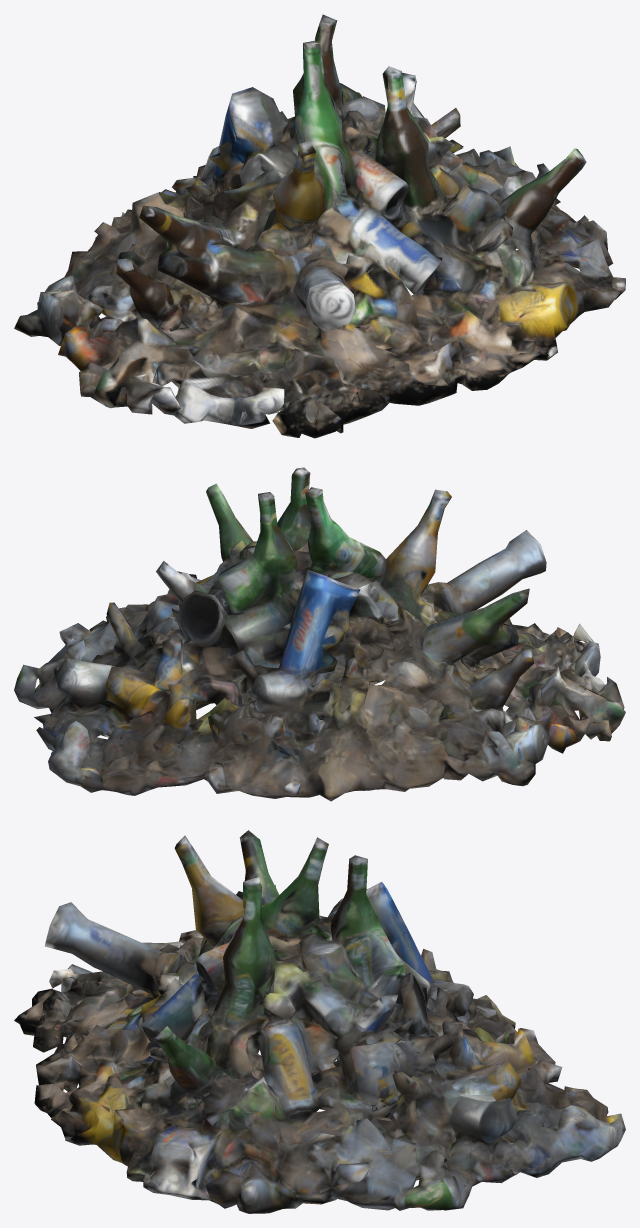
File: trash1.glb
3 renders of one model, top to bottom at view 1: azimuth 30°, elevation 25°; view 2: azimuth 150°, elevation 25°; view 3: azimuth 270°, elevation 25°, orthographic. The views are drawn at different scales.
Bounding box in the file's own units: 2.01 × 0.8958 × 1.96.
Materials: 1 (1 with a texture image).
